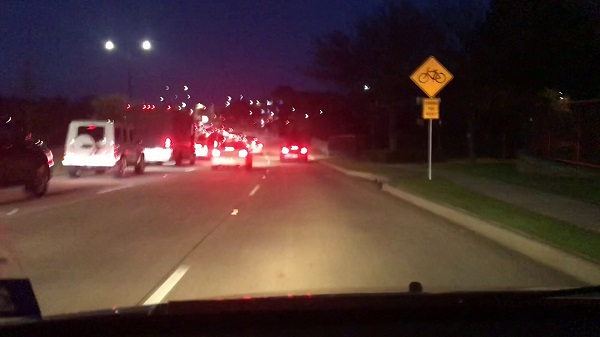bus: (130, 111, 197, 168)
car: (62, 118, 146, 173), (3, 115, 53, 194), (212, 142, 257, 170), (278, 138, 311, 163)
